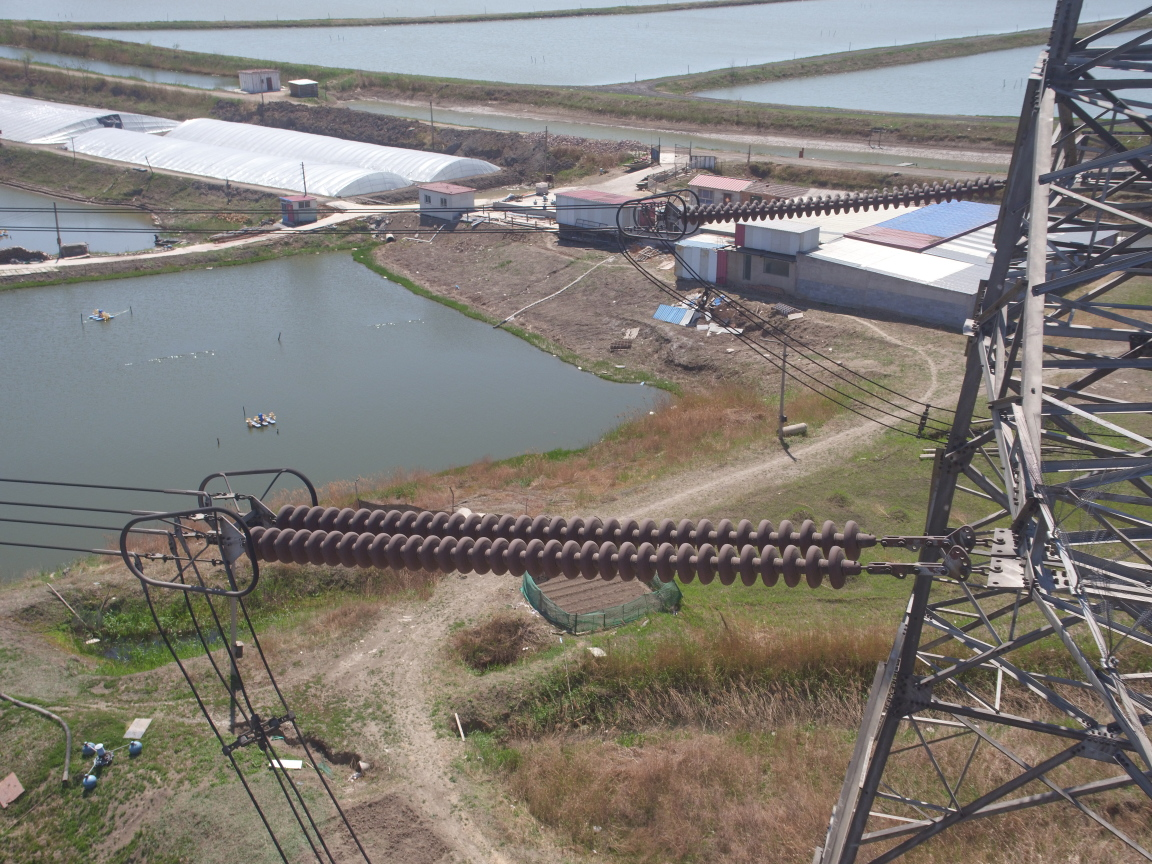insulator: (240, 502, 901, 590), (676, 170, 1011, 228)
